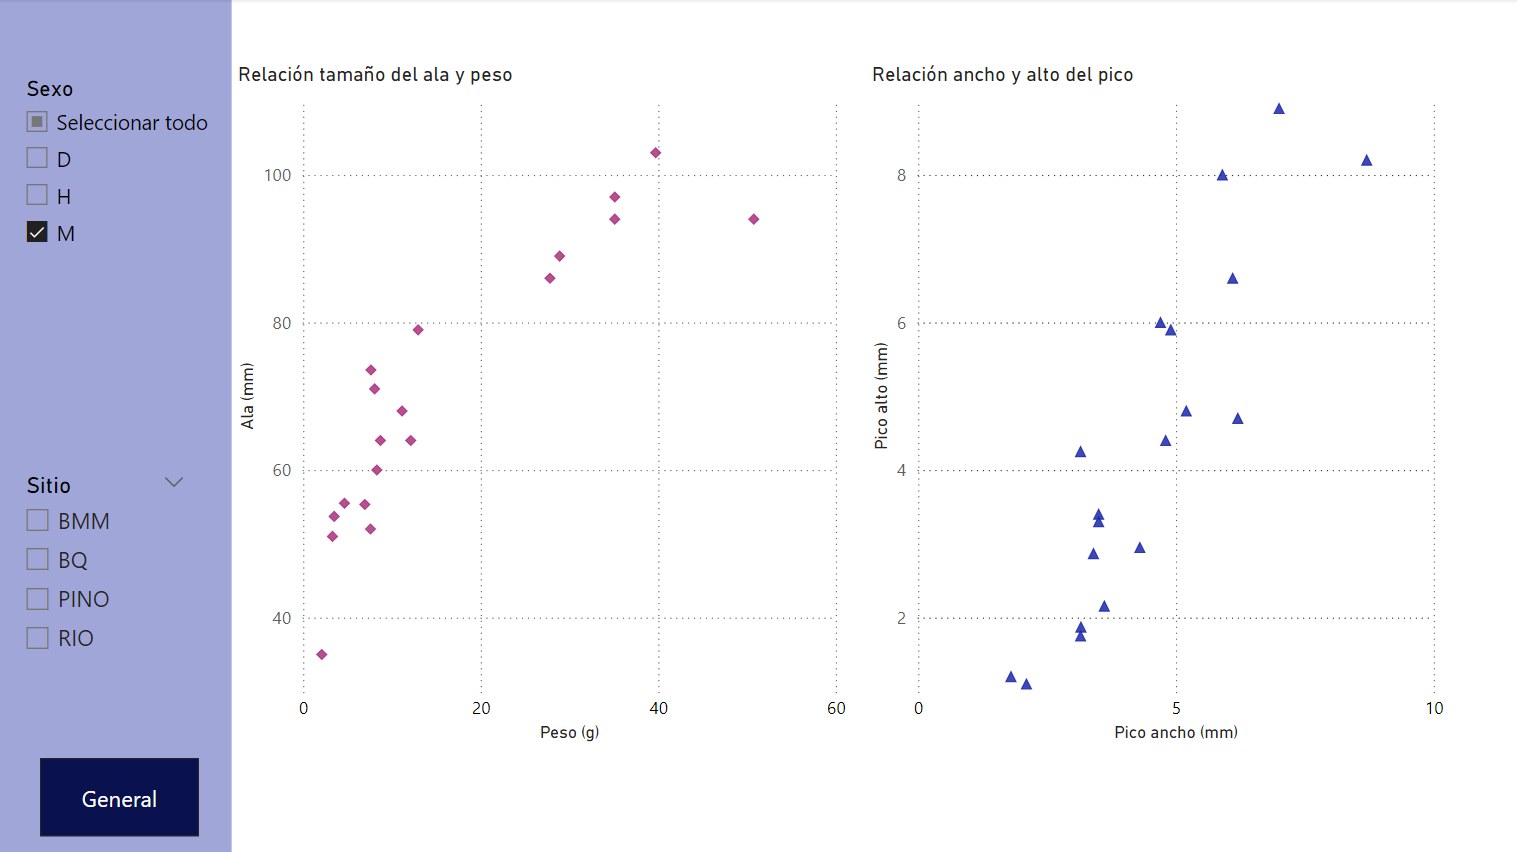

Layout of this report page (visuals, bound fields, positions):
{"tool":"powerbi","page":{"name":"Relaciones medidas","canvas":[1280,720],"ordinal":1},"visuals":[{"type":"shape","box":[0,0,196.3,719.8],"z":0},{"type":"scatterChart","title":"Relación tamaño  del ala y peso","fields":{"X":["Avg(datosaves3.pesogr)"],"Y":["Avg(datosaves3.alamm)"],"Category":["datosaves3.especie"]},"box":[196.1,52.8,522.1,577.6],"z":1000},{"type":"slicer","fields":{"Values":["datosaves3.sexo"]},"box":[10.5,60.2,174.1,171.5],"z":2000},{"type":"scatterChart","title":"Relación ancho y alto del pico","fields":{"X":["Avg(datosaves3.picoanchomm)"],"Y":["Avg(datosaves3.picoaltomm)"],"Category":["datosaves3.especie"]},"box":[730.7,52.8,491.6,577.6],"z":3000},{"type":"slicer","fields":{"Values":["datosaves3.site"]},"box":[10.5,393.9,158.4,204.2],"z":4000},{"type":"pageNavigator","box":[35,639.5,134.1,66.1],"z":5000}]}

Visuals, with their boxes on the page's 1280x720 design canvas (x1, y1, x2, y2). These are canvas units, not pixel positions in the 1517x852 screenshot, which may show the page scaled, cropped or inside an application window:
shape: bbox=(0, 0, 196, 720)
"Relación tamaño  del ala y peso" scatterChart: bbox=(196, 53, 718, 630)
slicer - datosaves3.sexo: bbox=(10, 60, 185, 232)
"Relación ancho y alto del pico" scatterChart: bbox=(731, 53, 1222, 630)
slicer - datosaves3.site: bbox=(10, 394, 169, 598)
pageNavigator: bbox=(35, 640, 169, 706)
